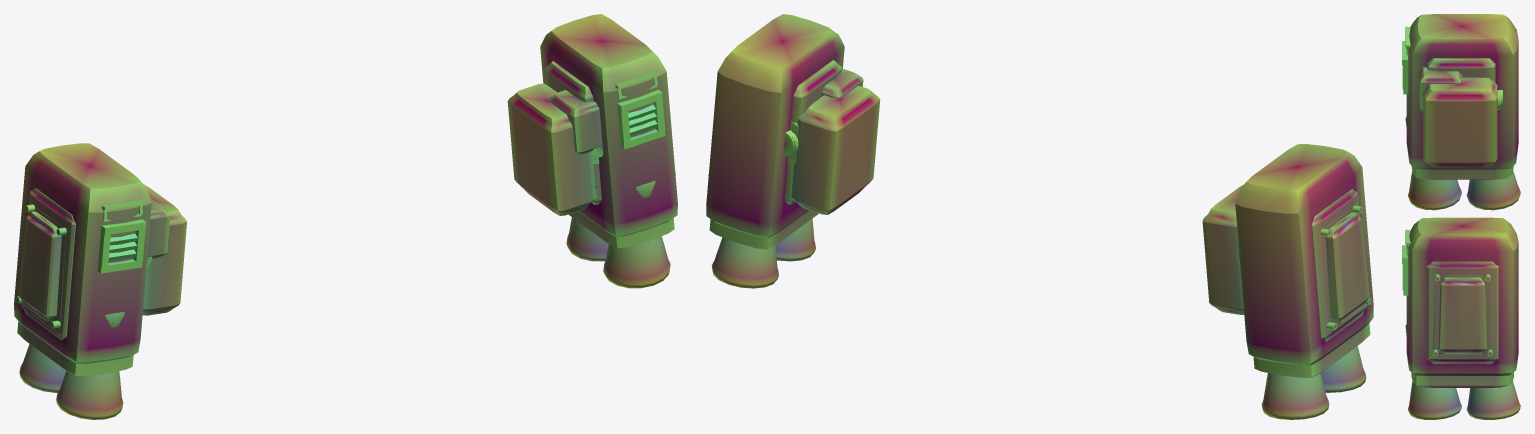
Rendered from llm_gen_leg_thrusters_080_64bd05.glb.
The picture shows the model from 3 angles, left to right: view 1: azimuth 30°, elevation 25°; view 2: azimuth 150°, elevation 25°; view 3: azimuth 270°, elevation 25°; orthographic projection. The views are drawn at different scales.
Parts seen in each view (by area): view 1: hover_cowling_armor_1_era_block_l, hover_cowling_armor_1_era_block_r, adapter_calf_clamp_r, hover_flank_panel_5_crimson_gloss_l, adapter_calf_clamp_l, hover_bell_fwd_7_vernier_bell_vernier_l, hover_bell_fwd_7_vernier_bell_vernier_r, adapter_sub_hover_flank_dark_4_adapter_dark_l, adapter_leg_knee_mount_dark_9_adapter_dark_r, adapter_sub_hover_manifold_dark_6_adapter_dark_l, adapter_sub_hover_intake_grille_2_dark_r, adapter_sub_hover_intake_grille_2_dark_l (+7 smaller); view 2: hover_cowling_armor_1_era_block_l, hover_cowling_armor_1_era_block_r, adapter_calf_clamp_r, hover_flank_panel_5_crimson_gloss_l, adapter_calf_clamp_l, hover_bell_aft_8_vernier_bell_vernier_l, hover_bell_aft_8_vernier_bell_vernier_r, adapter_sub_hover_flank_dark_4_adapter_dark_l, hover_core_mount_0_adapter_dark_r, adapter_sub_hover_manifold_dark_6_adapter_dark_l, hover_bell_fwd_7_vernier_bell_vernier_l, adapter_sub_hover_manifold_dark_6_adapter_dark_r (+2 smaller); view 3: hover_cowling_armor_1_era_block_r, hover_cowling_armor_1_era_block_l, adapter_calf_clamp_l, hover_flank_panel_5_crimson_gloss_r, adapter_sub_hover_flank_dark_4_adapter_dark_r, hover_bell_aft_8_vernier_bell_vernier_r, hover_bell_fwd_7_vernier_bell_vernier_r, hover_bell_aft_8_vernier_bell_vernier_l, hover_bell_fwd_7_vernier_bell_vernier_l, adapter_sub_hover_manifold_dark_6_adapter_dark_r, hover_core_mount_0_adapter_dark_l, adapter_sub_hover_manifold_dark_6_adapter_dark_l (+4 smaller).
Part boxes in pixels (box(x1,y1,x2,y2)): hover_cowling_armor_1_era_block_l: box(14, 143, 151, 363); hover_cowling_armor_1_era_block_r: box(540, 14, 677, 236); adapter_calf_clamp_r: box(507, 83, 599, 215); hover_flank_panel_5_crimson_gloss_l: box(16, 204, 66, 328); adapter_calf_clamp_l: box(142, 184, 186, 315); hover_bell_fwd_7_vernier_bell_vernier_l: box(56, 371, 123, 419); hover_bell_fwd_7_vernier_bell_vernier_r: box(603, 236, 670, 288); adapter_sub_hover_flank_dark_4_adapter_dark_l: box(20, 188, 75, 340); adapter_leg_knee_mount_dark_9_adapter_dark_r: box(549, 90, 602, 154); adapter_sub_hover_manifold_dark_6_adapter_dark_l: box(17, 321, 133, 376); adapter_sub_hover_intake_grille_2_dark_r: box(617, 89, 665, 149); adapter_sub_hover_intake_grille_2_dark_l: box(97, 219, 146, 273); hover_cowling_armor_1_era_block_l: box(1235, 144, 1373, 365); hover_cowling_armor_1_era_block_r: box(706, 14, 844, 238); adapter_calf_clamp_r: box(787, 85, 880, 214); hover_flank_panel_5_crimson_gloss_l: box(1320, 205, 1371, 330); adapter_calf_clamp_l: box(1202, 184, 1244, 314); hover_bell_aft_8_vernier_bell_vernier_l: box(1261, 373, 1329, 419); hover_bell_aft_8_vernier_bell_vernier_r: box(711, 237, 778, 288); adapter_sub_hover_flank_dark_4_adapter_dark_l: box(1311, 189, 1367, 341); hover_core_mount_0_adapter_dark_r: box(784, 60, 842, 204); adapter_sub_hover_manifold_dark_6_adapter_dark_l: box(1253, 323, 1370, 377); hover_bell_fwd_7_vernier_bell_vernier_l: box(1321, 346, 1366, 392); adapter_sub_hover_manifold_dark_6_adapter_dark_r: box(709, 210, 818, 249); hover_cowling_armor_1_era_block_r: box(1406, 217, 1518, 375); hover_cowling_armor_1_era_block_l: box(1406, 14, 1518, 169); adapter_calf_clamp_l: box(1423, 77, 1497, 167); hover_flank_panel_5_crimson_gloss_r: box(1432, 274, 1492, 356); adapter_sub_hover_flank_dark_4_adapter_dark_r: box(1426, 261, 1498, 363); hover_bell_aft_8_vernier_bell_vernier_r: box(1466, 381, 1520, 419); hover_bell_fwd_7_vernier_bell_vernier_r: box(1408, 381, 1461, 419); hover_bell_aft_8_vernier_bell_vernier_l: box(1466, 170, 1520, 210); hover_bell_fwd_7_vernier_bell_vernier_l: box(1408, 171, 1461, 210); adapter_sub_hover_manifold_dark_6_adapter_dark_r: box(1411, 372, 1513, 387); hover_core_mount_0_adapter_dark_l: box(1426, 58, 1495, 82); adapter_sub_hover_manifold_dark_6_adapter_dark_l: box(1411, 166, 1513, 179).
Bounding box in the file's own units: 86.05 × 29.84 × 17.61.
